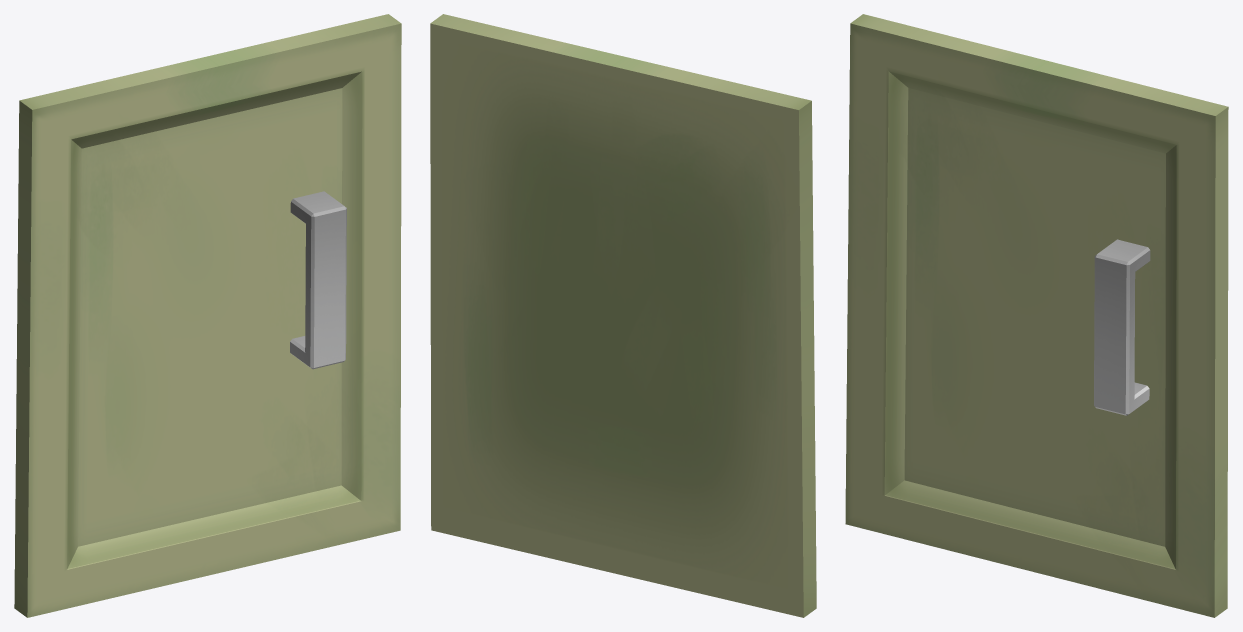
File: CounterDoubleDoorL.fbx
3 renders of one model, left to right at view 1: azimuth 30°, elevation 25°; view 2: azimuth 150°, elevation 25°; view 3: azimuth 330°, elevation 25°, orthographic.
Parts seen in each view (by area): view 1: CounterDoubleDoorL; view 2: CounterDoubleDoorL; view 3: CounterDoubleDoorL.
Part boxes in pixels (box(x1,y1,x2,y2)): CounterDoubleDoorL: box(14, 14, 401, 617); CounterDoubleDoorL: box(430, 14, 816, 617); CounterDoubleDoorL: box(845, 14, 1228, 617).
Size of the model in its own units: 49.77 by 64.92 by 7.
